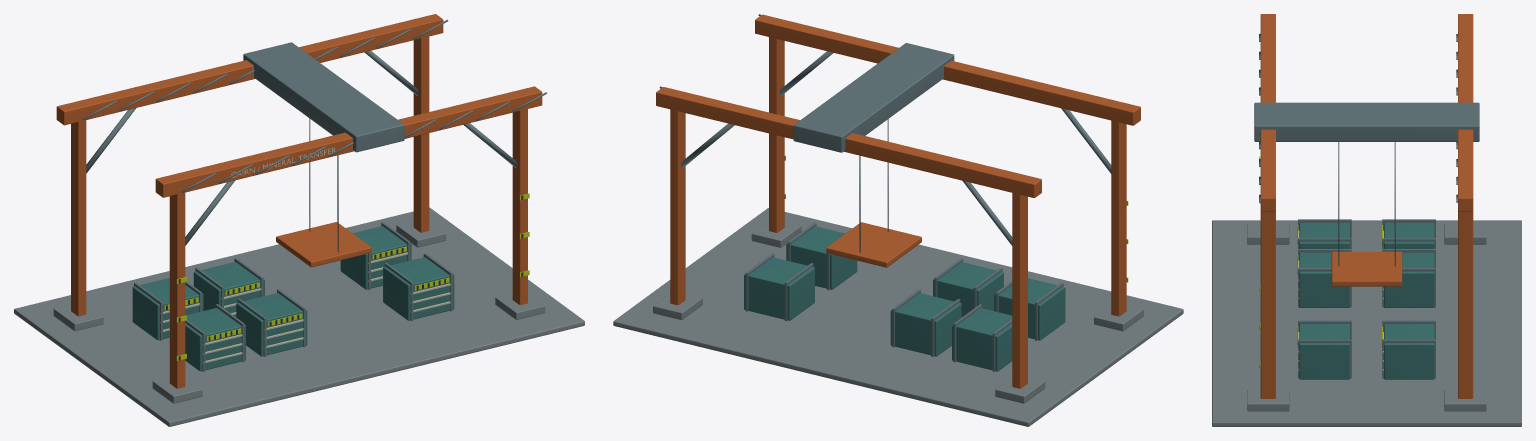
File: quarry_gantry.glb
3 renders of one model, left to right at view 1: azimuth 30°, elevation 25°; view 2: azimuth 150°, elevation 25°; view 3: azimuth 270°, elevation 25°, orthographic.
Parts seen in each view (by area): view 1: quarry_gantry; view 2: quarry_gantry; view 3: quarry_gantry.
Boxes of the visible parts, x1=… form: quarry_gantry: x1=14, y1=14, x2=584, y2=426; quarry_gantry: x1=613, y1=14, x2=1183, y2=426; quarry_gantry: x1=1212, y1=14, x2=1521, y2=426.
Bounding box in the file's own units: 34 × 17.55 × 22.
